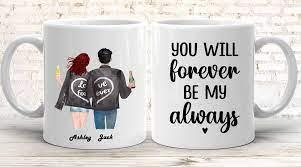Mug: (2, 10, 298, 157)
